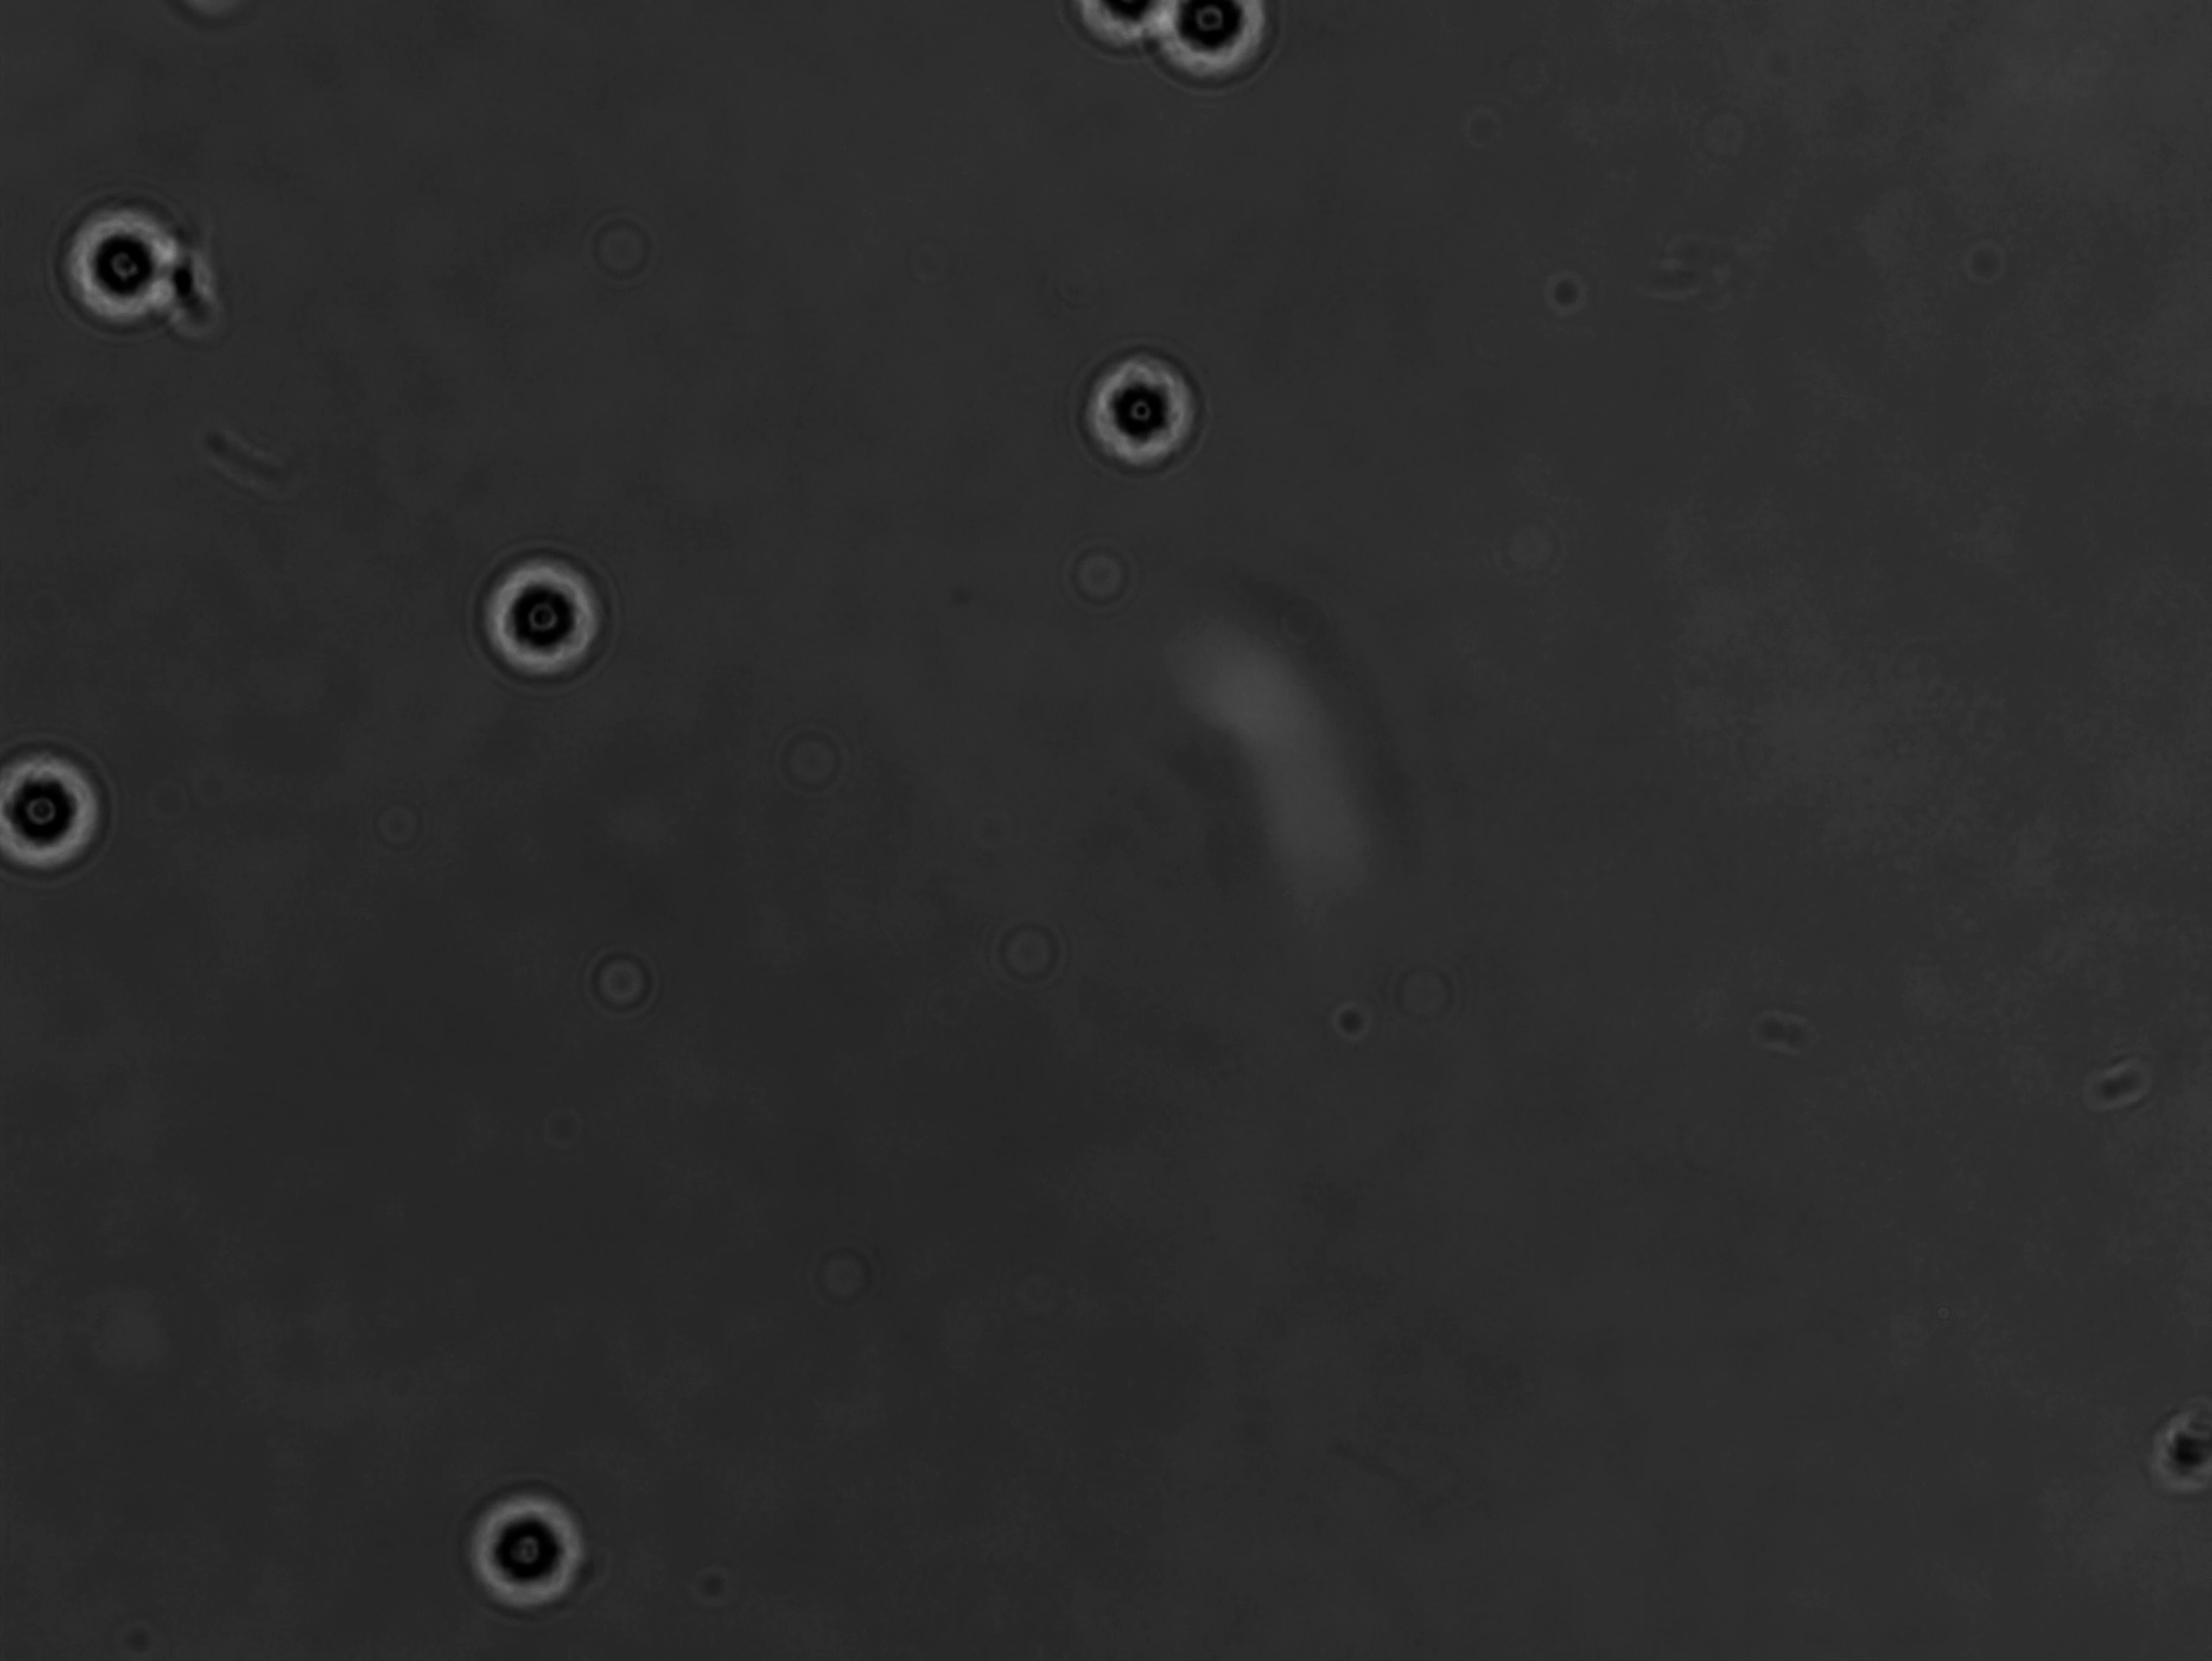depth:-20: (1050, 321, 1237, 499), (466, 525, 637, 691), (42, 173, 208, 338), (448, 1466, 621, 1623)
